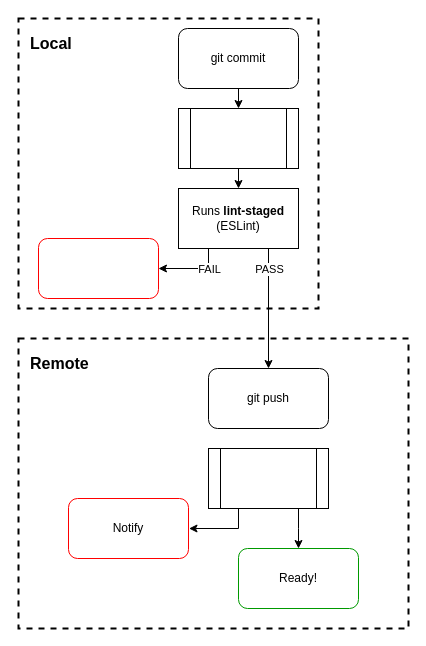
This 426x646 diagram has some shape labels left out. The centre of each missing label's shape, as x and y in pixels:
Block commit: the point at 98,268
GitHub Actions CI Workflow: the point at 268,478
Husky: pre-commit hook: the point at 238,138
